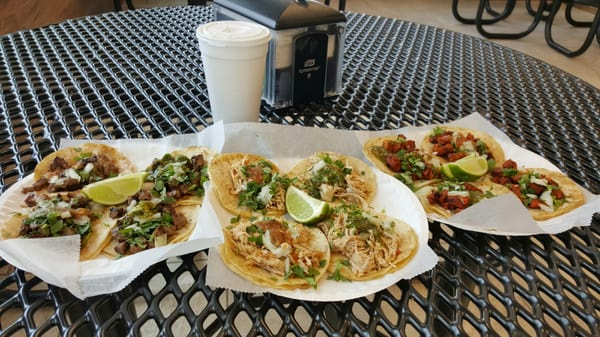pizza: (196, 20, 271, 125)
